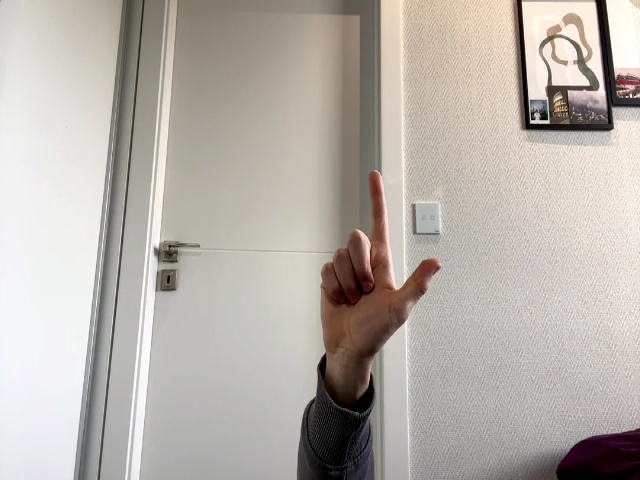L: (320, 170, 442, 375)
